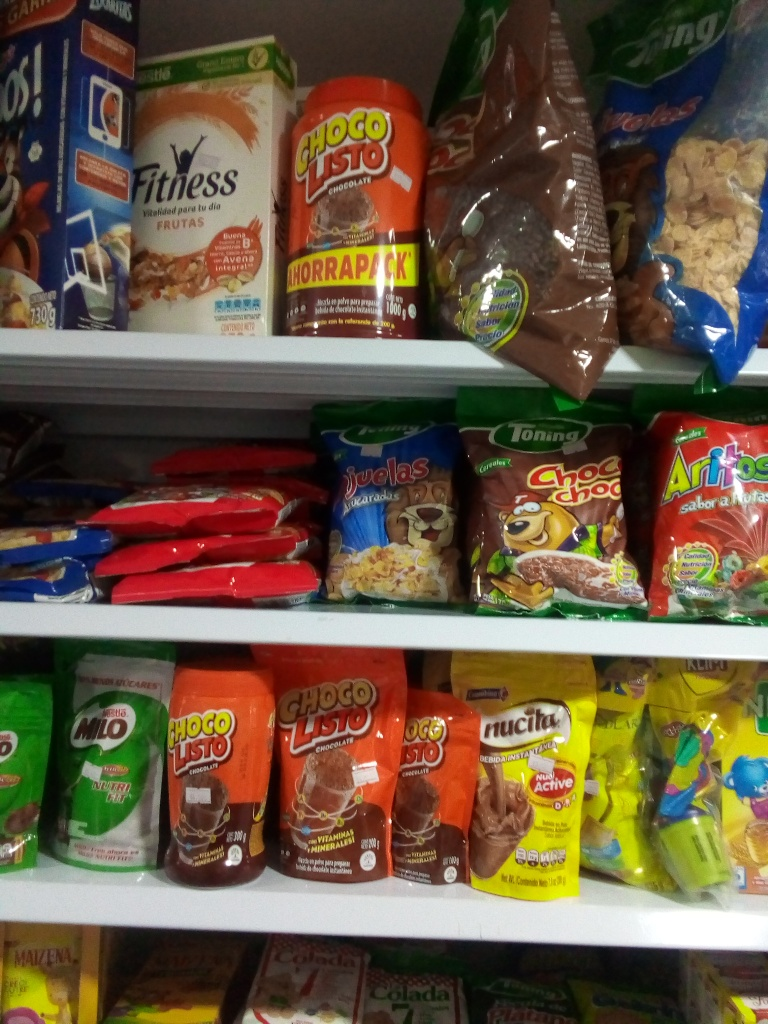COL0170103TRR00100: (286, 67, 431, 343)
COL0170103TRR30000: (159, 659, 276, 889)
COL0170205DYP20000: (47, 643, 166, 876)
